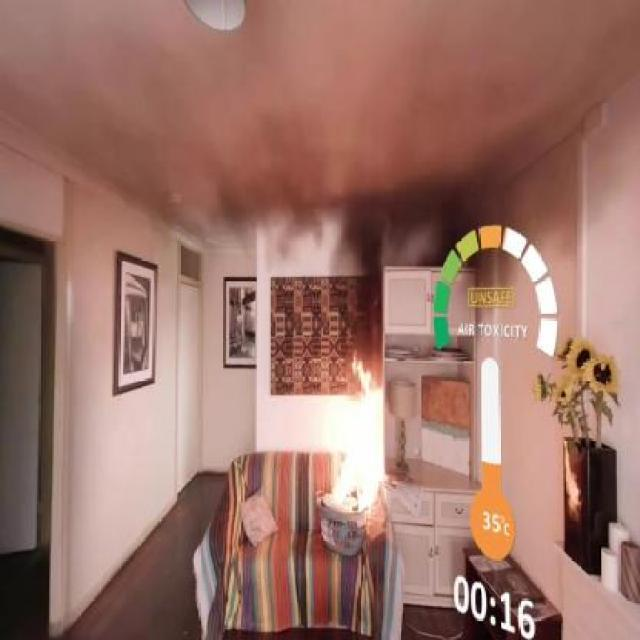fire: (298, 374, 404, 554)
smoke: (325, 200, 430, 311)
